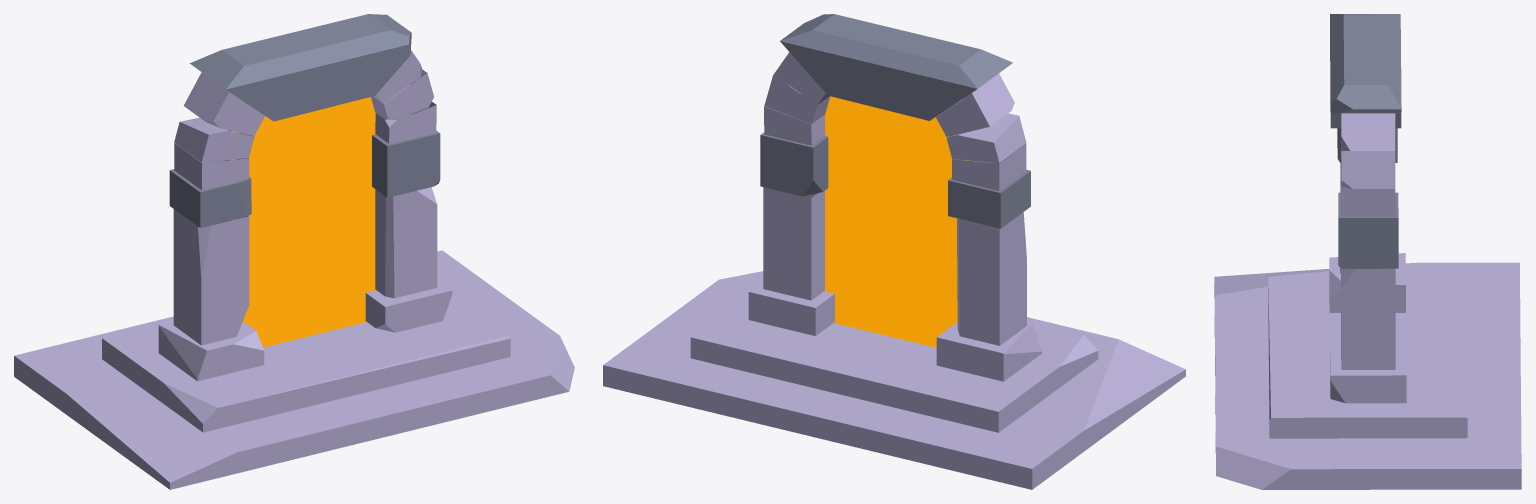
Rendered from portalb-baked.glb.
The picture shows the model from 3 angles, left to right: view 1: azimuth 30°, elevation 25°; view 2: azimuth 150°, elevation 25°; view 3: azimuth 270°, elevation 25°; orthographic projection.
Parts seen in each view (by area): view 1: Cube.046, portalLightB, Cube.047, Cube.143, Cube.136, Cube.139, Cube.048, Cube.138, Cube.137, Cube.059, Cube.142, Cube.141 (+4 smaller); view 2: Cube.046, portalLightB, Cube.047, Cube.143, Cube.136, Cube.139, Cube.048, Cube.138, Cube.137, Cube.059, Cube.142, Cube.141 (+4 smaller); view 3: Cube.046, Cube.047, Cube.143, Cube.139, Cube.138, Cube.059, Cube.149, Cube.150, Cube.151, Cube.048.
Boxes of the visible parts, x1=… form: Cube.046: x1=14, y1=250, x2=574, y2=489; portalLightB: x1=231, y1=97, x2=375, y2=347; Cube.047: x1=102, y1=294, x2=510, y2=432; Cube.143: x1=190, y1=14, x2=411, y2=121; Cube.136: x1=173, y1=209, x2=249, y2=345; Cube.139: x1=375, y1=187, x2=437, y2=298; Cube.048: x1=158, y1=321, x2=264, y2=381; Cube.138: x1=372, y1=114, x2=440, y2=197; Cube.137: x1=169, y1=160, x2=251, y2=227; Cube.059: x1=365, y1=280, x2=452, y2=332; Cube.142: x1=183, y1=72, x2=264, y2=135; Cube.141: x1=174, y1=117, x2=254, y2=162; Cube.046: x1=603, y1=271, x2=1185, y2=489; portalLightB: x1=824, y1=96, x2=968, y2=347; Cube.047: x1=690, y1=295, x2=1098, y2=432; Cube.143: x1=780, y1=14, x2=1012, y2=120; Cube.136: x1=957, y1=212, x2=1026, y2=345; Cube.139: x1=763, y1=187, x2=824, y2=300; Cube.048: x1=936, y1=321, x2=1042, y2=381; Cube.138: x1=760, y1=116, x2=828, y2=196; Cube.137: x1=948, y1=161, x2=1030, y2=228; Cube.059: x1=748, y1=281, x2=834, y2=335; Cube.142: x1=936, y1=73, x2=1014, y2=136; Cube.141: x1=946, y1=113, x2=1026, y2=163; Cube.046: x1=1214, y1=262, x2=1521, y2=489; Cube.047: x1=1268, y1=269, x2=1467, y2=438; Cube.143: x1=1330, y1=14, x2=1401, y2=128; Cube.139: x1=1341, y1=268, x2=1395, y2=369; Cube.138: x1=1338, y1=192, x2=1398, y2=268; Cube.059: x1=1330, y1=343, x2=1406, y2=403; Cube.149: x1=1341, y1=113, x2=1395, y2=150; Cube.150: x1=1341, y1=151, x2=1395, y2=188; Cube.151: x1=1341, y1=186, x2=1395, y2=216; Cube.048: x1=1329, y1=253, x2=1405, y2=312.
Bounding box in the file's own units: 1.45 × 1.1 × 0.9111.
